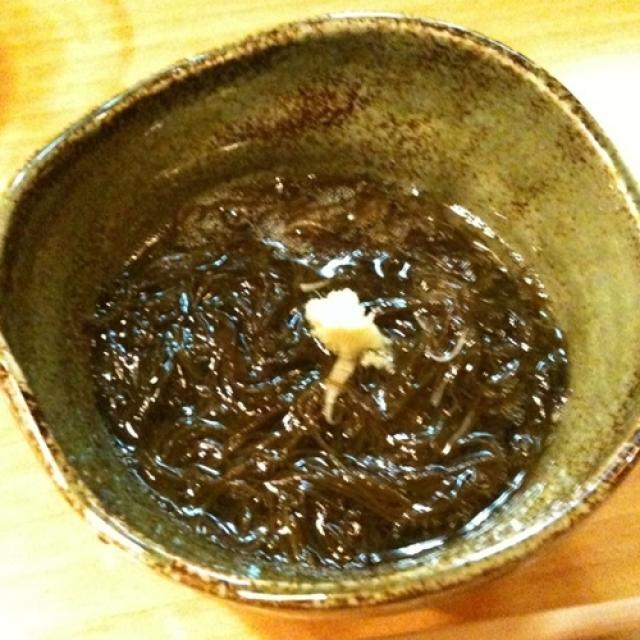蔬菜料理: (25, 47, 603, 562)
